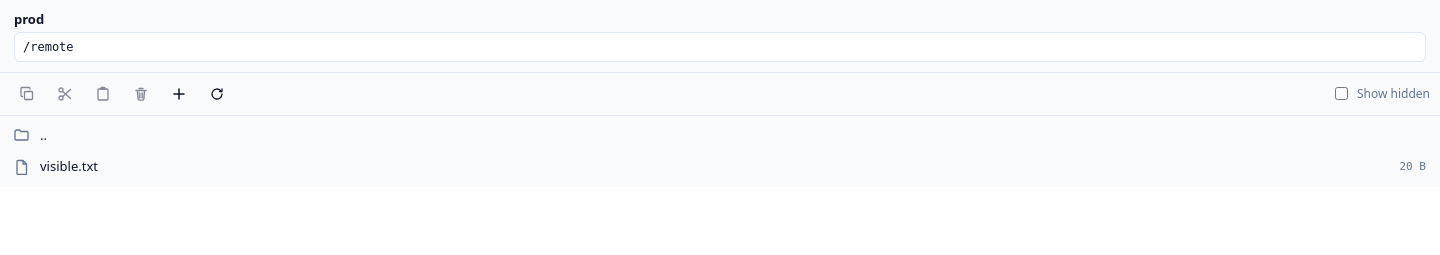
Test: SftpPane smoke › hides dotfiles by default and reveals them when "show hidden" is on
The image size is (1440, 255).
Expected: the text ".bashrc" is not shown
Expected: the text ".config" is not shown
// Toggle on → dotfiles appear.
Click the checkbox labelled "Show hidden".
click(1342, 94)  # box x1=1335 y1=87 x2=1348 y2=100
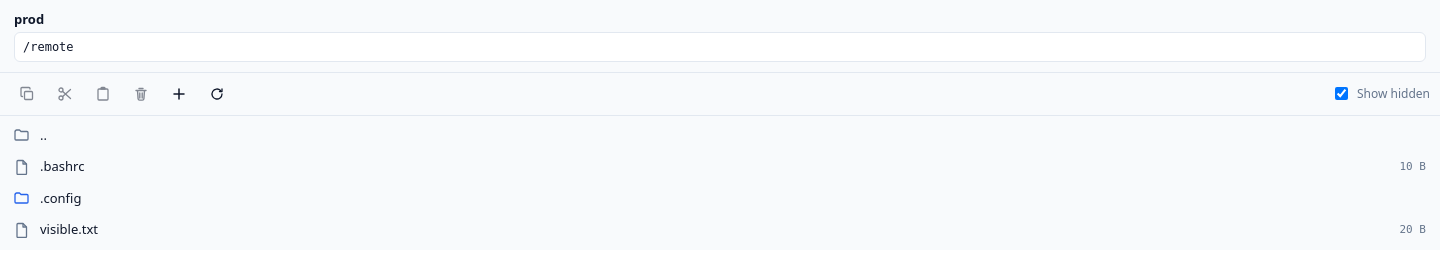
Expected: the text ".bashrc" is shown, x1=40 y1=157 x2=84 y2=175
Expected: the text ".config" is shown, x1=40 y1=188 x2=82 y2=206
// Toggle off → hidden again.
Click the checkbox labelled "Show hidden".
click(1342, 94)  # box x1=1335 y1=87 x2=1348 y2=100
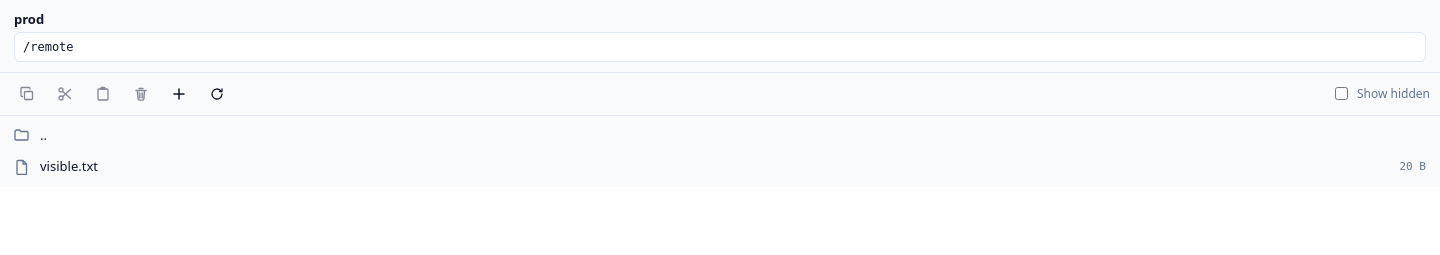
Expected: the text ".bashrc" is gone
